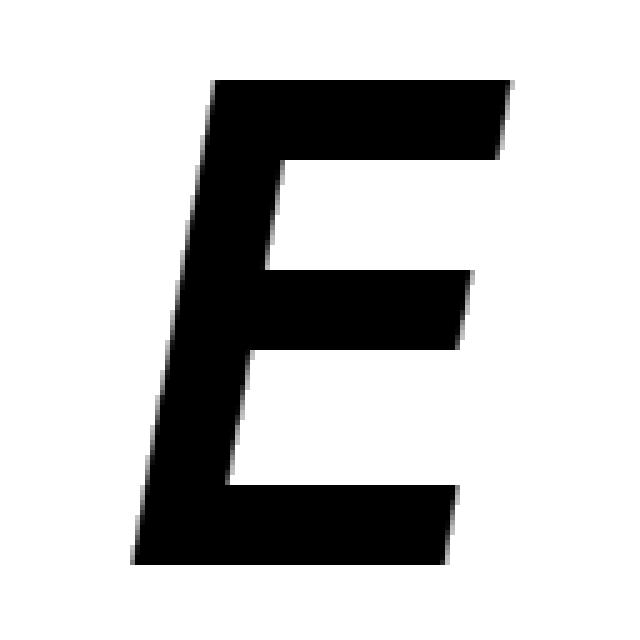E: (135, 80, 510, 570)
